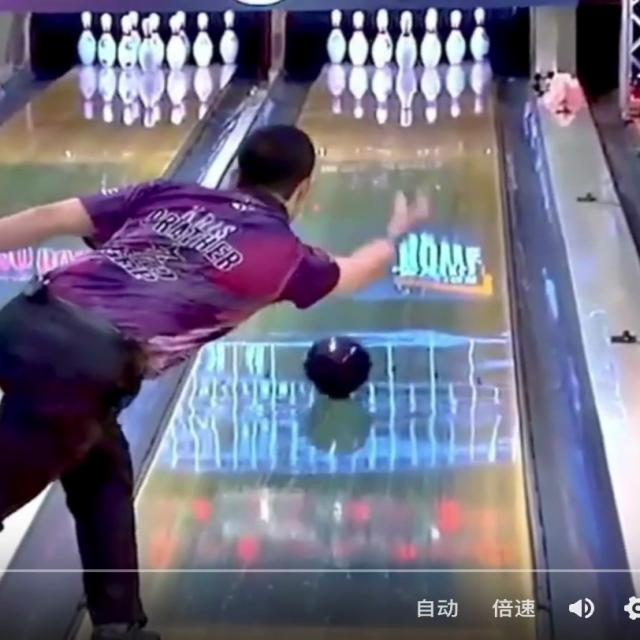alley: (137, 61, 534, 639)
balls: (303, 337, 371, 399)
bottle: (326, 8, 441, 69), (442, 8, 489, 65)
